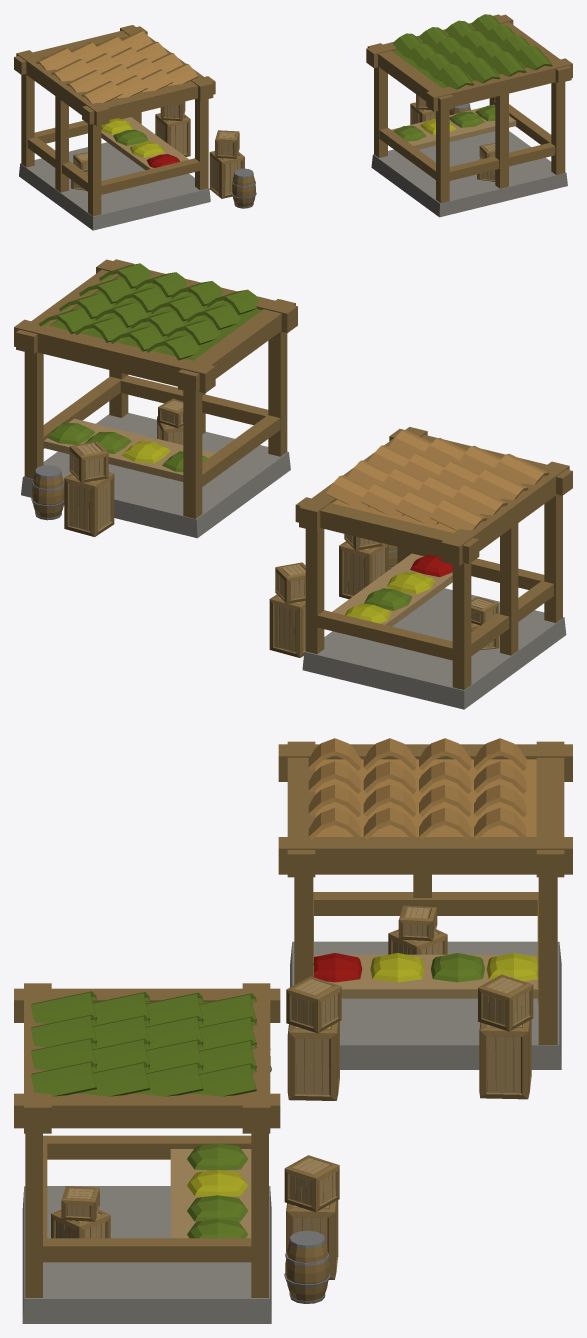
The model's file is Market_SecondAge_Level1.glb.
3 views of the same model, one above another, from view 1: azimuth 30°, elevation 25°; view 2: azimuth 150°, elevation 25°; view 3: azimuth 270°, elevation 25° (orthographic). The views are drawn at different scales.
Visible parts, largest first — view 1: Market_SecondAge_Level1; view 2: Market_SecondAge_Level1; view 3: Market_SecondAge_Level1.
Boxes of the visible parts, <box> form: Market_SecondAge_Level1: <box>14,14,572,230</box>; Market_SecondAge_Level1: <box>14,259,572,709</box>; Market_SecondAge_Level1: <box>14,738,572,1323</box>.
Bounding box in the file's own units: 1.92 × 0.5921 × 1.23.
Materials: 1 (1 with a texture image).
